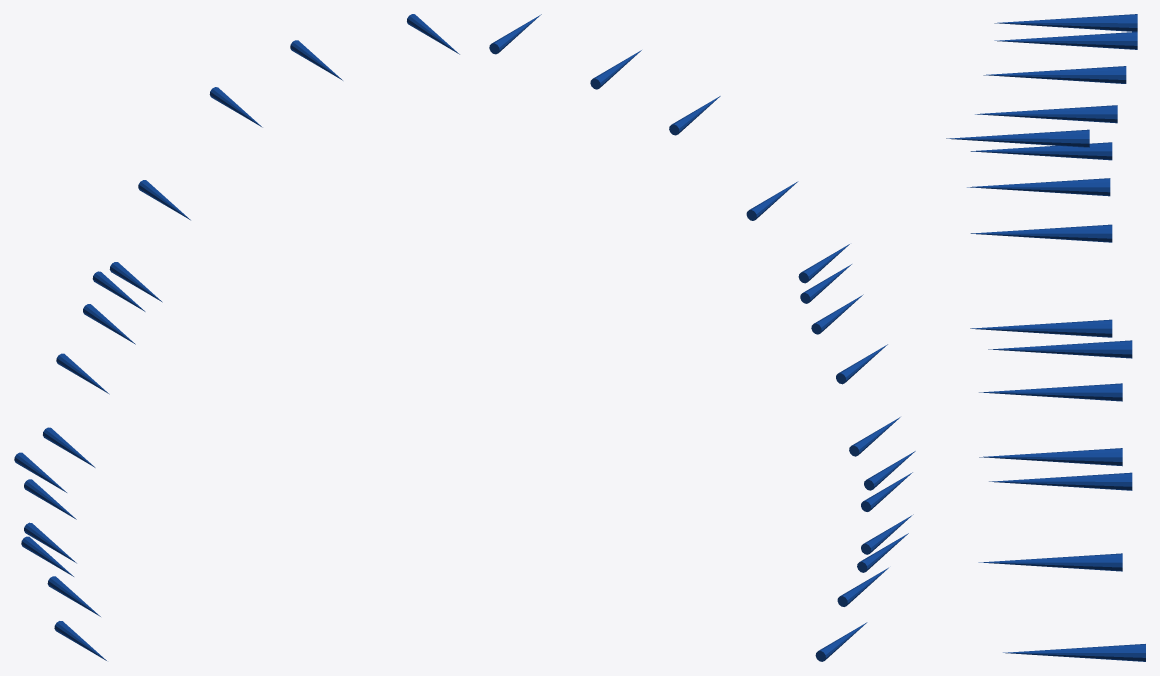
3 views of the same model, side by side, from view 1: azimuth 30°, elevation 25°; view 2: azimuth 150°, elevation 25°; view 3: azimuth 270°, elevation 25° (orthographic). The views are drawn at different scales.
Parts seen in each view (by area): view 1: Cone.012_Cone.013; view 2: Cone.012_Cone.013; view 3: Cone.012_Cone.013.
Boxes of the visible parts, box(x1,y1,x2,y2) form: Cone.012_Cone.013: box(14, 14, 459, 660); Cone.012_Cone.013: box(489, 14, 915, 661); Cone.012_Cone.013: box(946, 14, 1145, 661).
Size of the model in its own units: 6.28 by 8.15 by 1.85.
